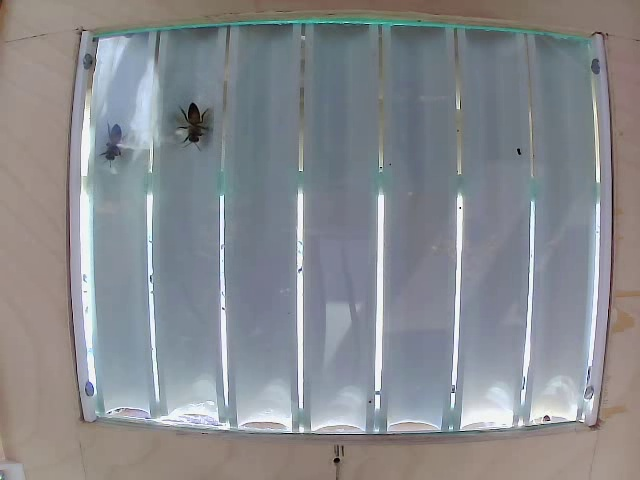bee: (93, 121, 134, 165), (178, 114, 212, 148)
